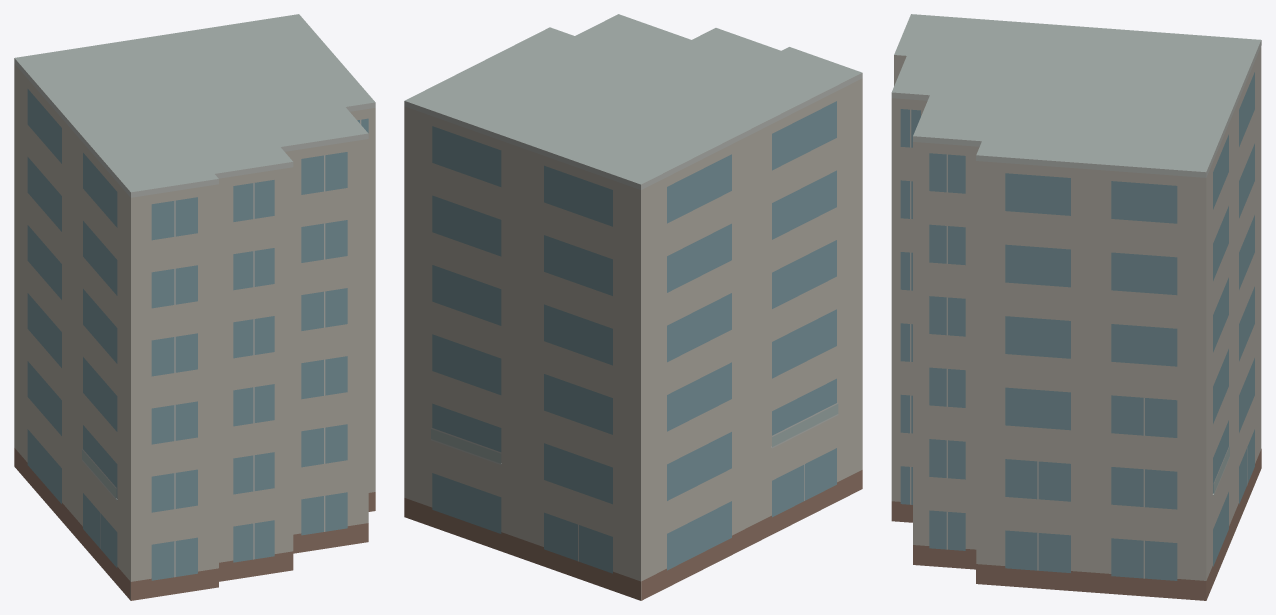
The model's file is survey-upis-32669573.glb.
3 renders of one model, left to right at view 1: azimuth 30°, elevation 25°; view 2: azimuth 150°, elevation 25°; view 3: azimuth 270°, elevation 25°, orthographic. The views are drawn at different scales.
Parts seen in each view (by area): view 1: survey-upis-32669573.tmp; view 2: survey-upis-32669573.tmp; view 3: survey-upis-32669573.tmp.
Boxes of the visible parts, <box> form: survey-upis-32669573.tmp: <box>14,14,375,600</box>; survey-upis-32669573.tmp: <box>404,14,862,600</box>; survey-upis-32669573.tmp: <box>891,14,1261,600</box>.
Size of the model in its own units: 14.49 by 18.3 by 14.32.
